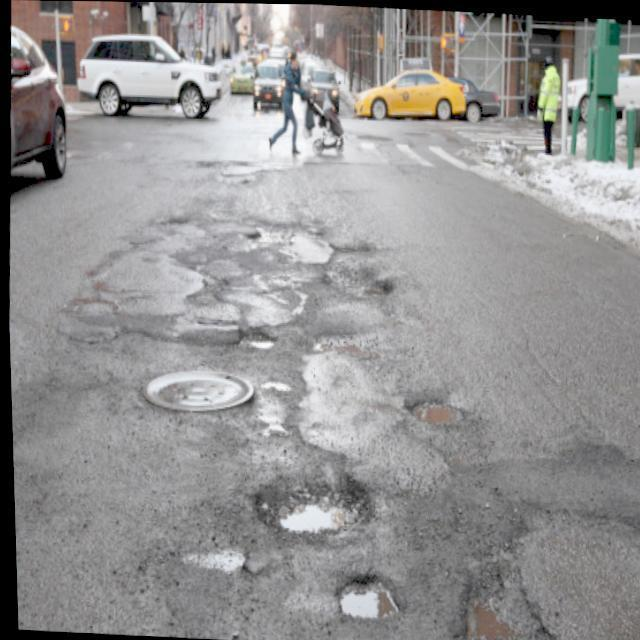Pothole: (262, 475, 369, 536), (242, 222, 333, 272), (332, 578, 396, 625), (323, 269, 398, 306), (464, 591, 511, 640), (231, 322, 278, 354), (410, 396, 460, 425)
